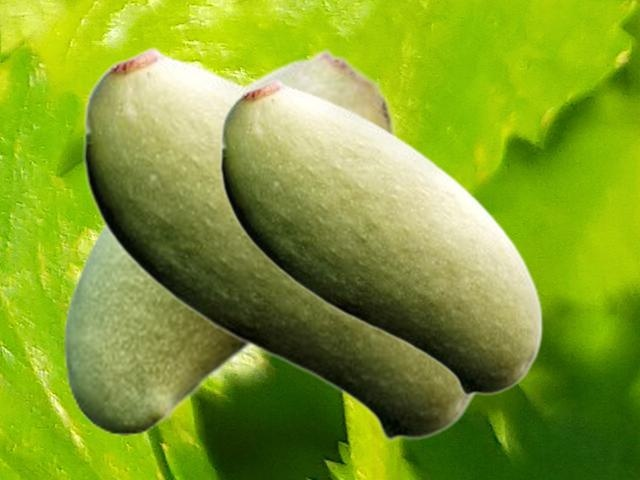green_mango: (82, 45, 478, 441), (62, 48, 395, 434), (219, 77, 542, 396)
